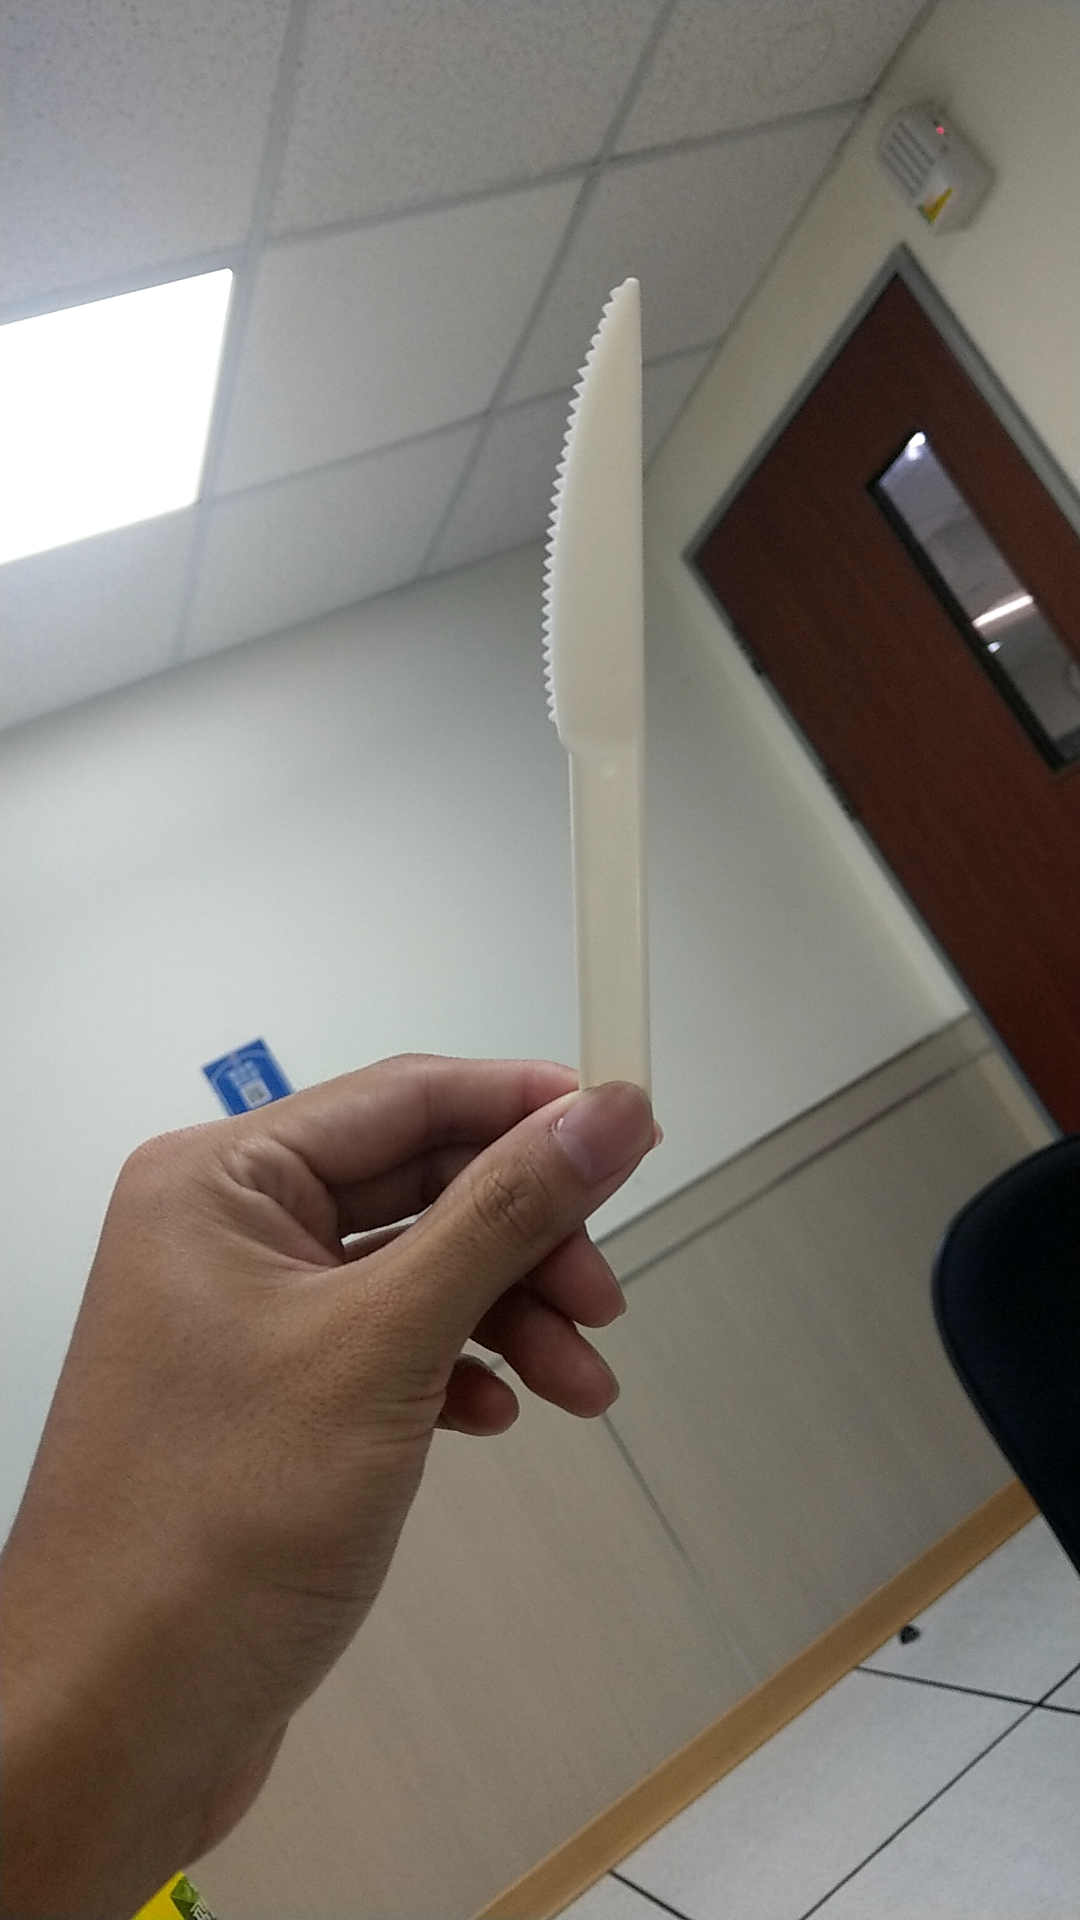knife: (522, 251, 700, 1112)
